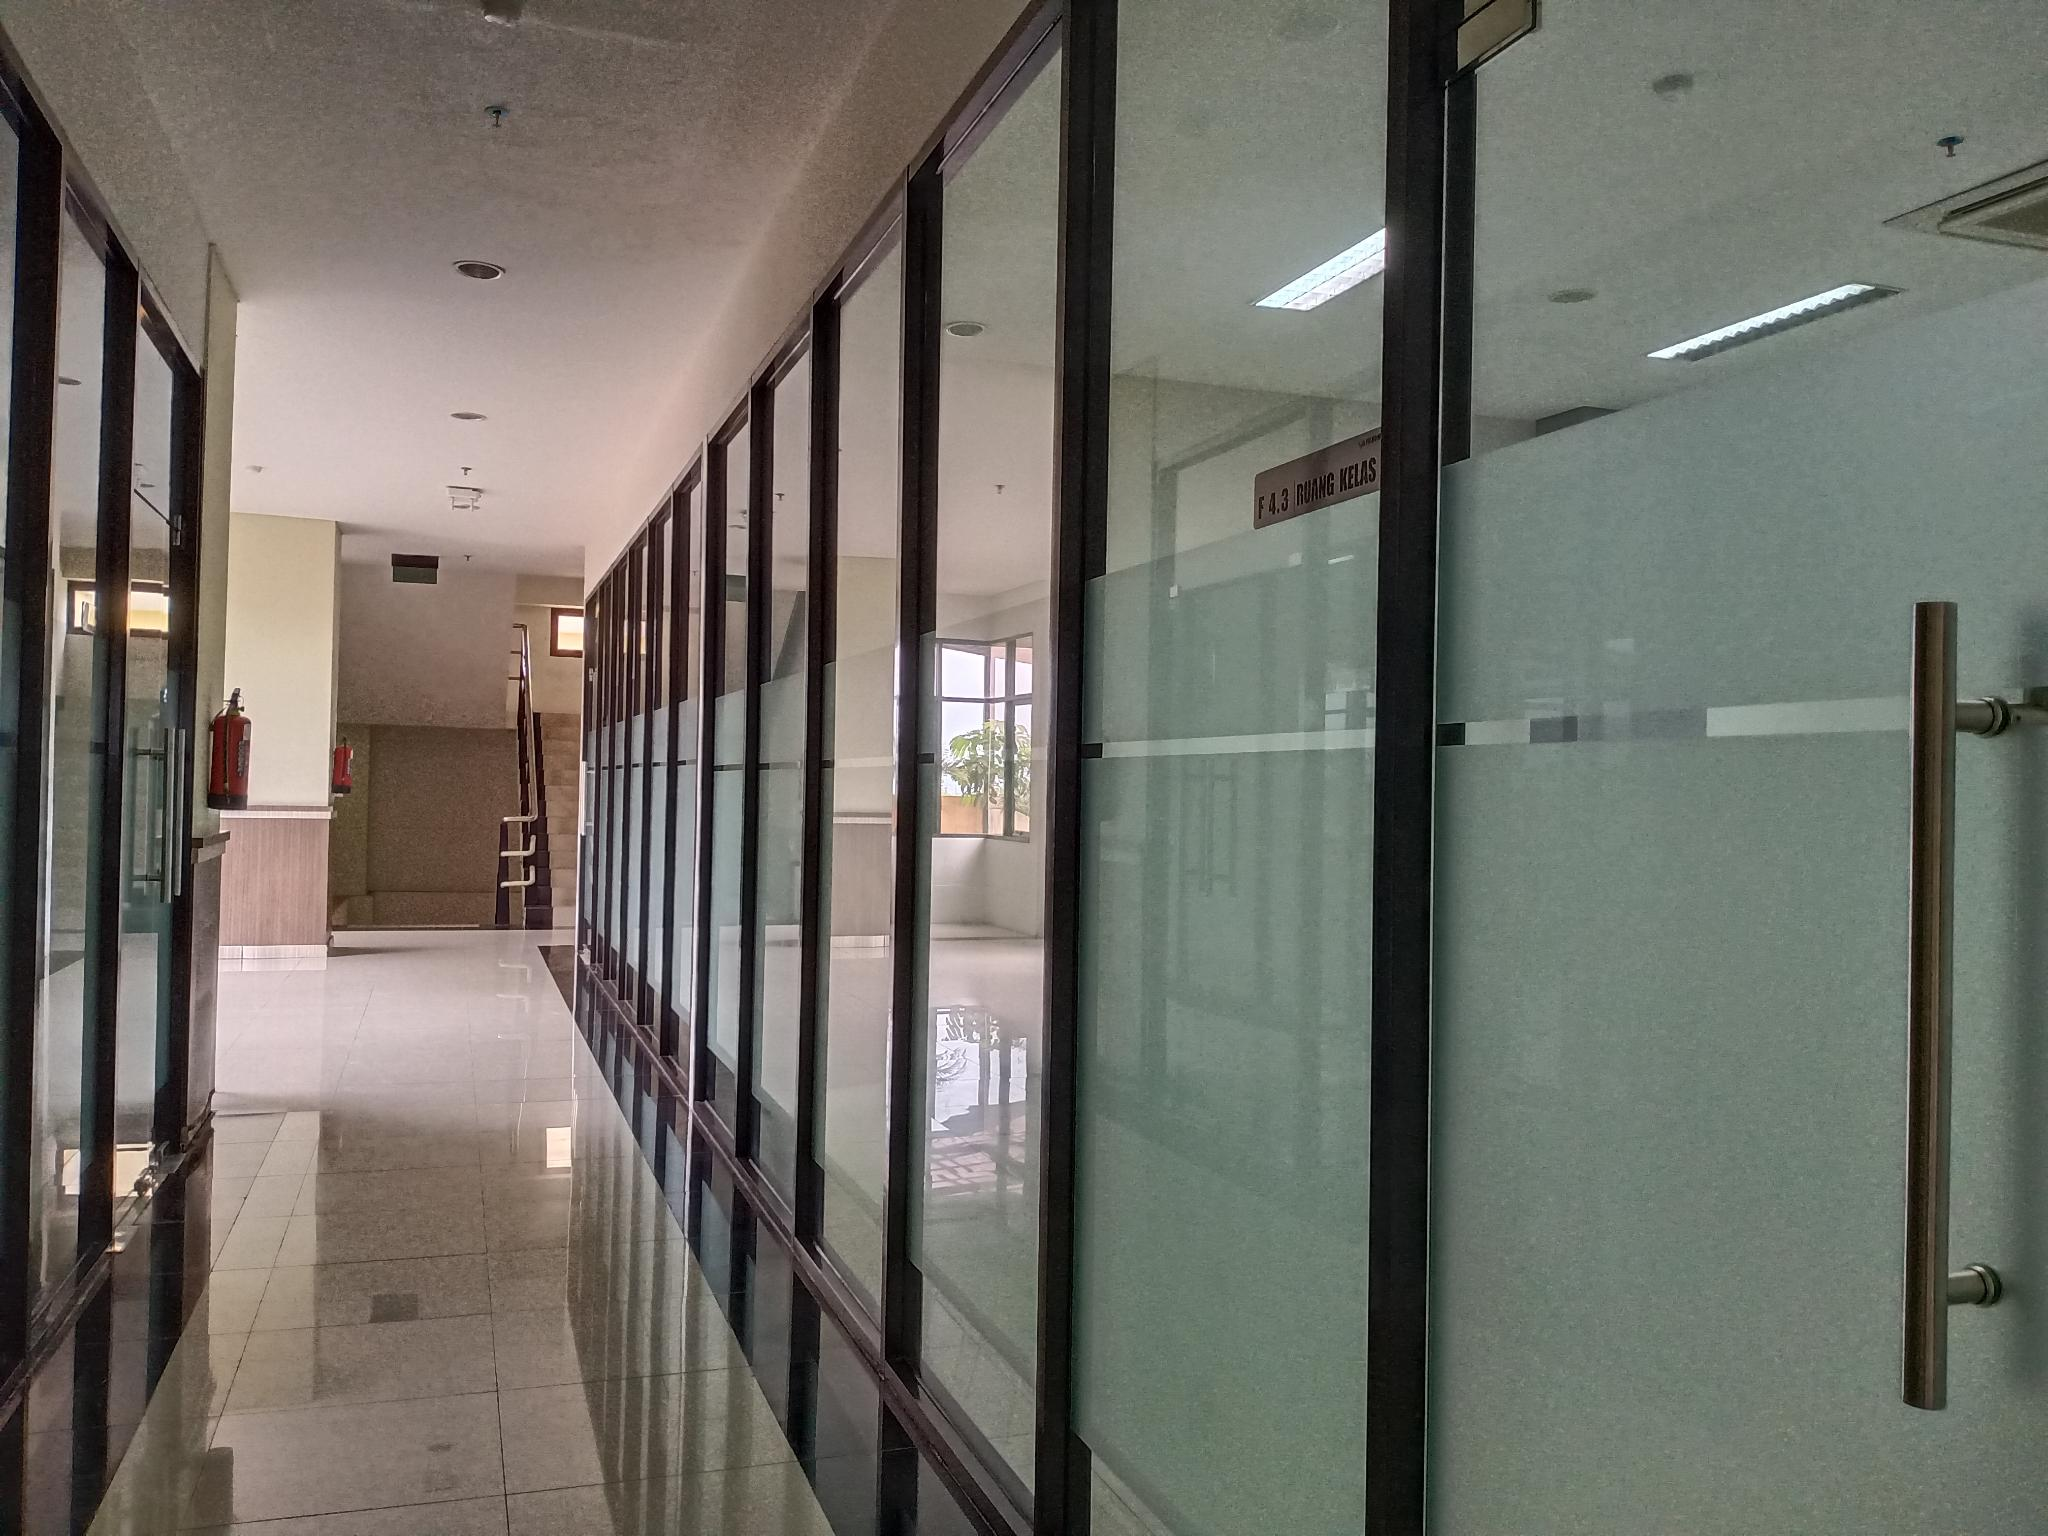plate: (1253, 426, 1382, 531)
